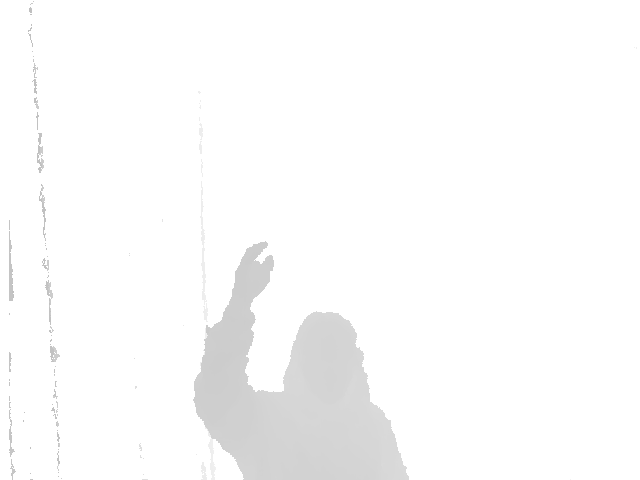hand: (224, 239, 277, 311)
head: (281, 313, 368, 399)
person: (190, 238, 414, 480)
